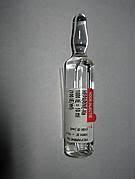Syringe: (60, 8, 98, 162)
